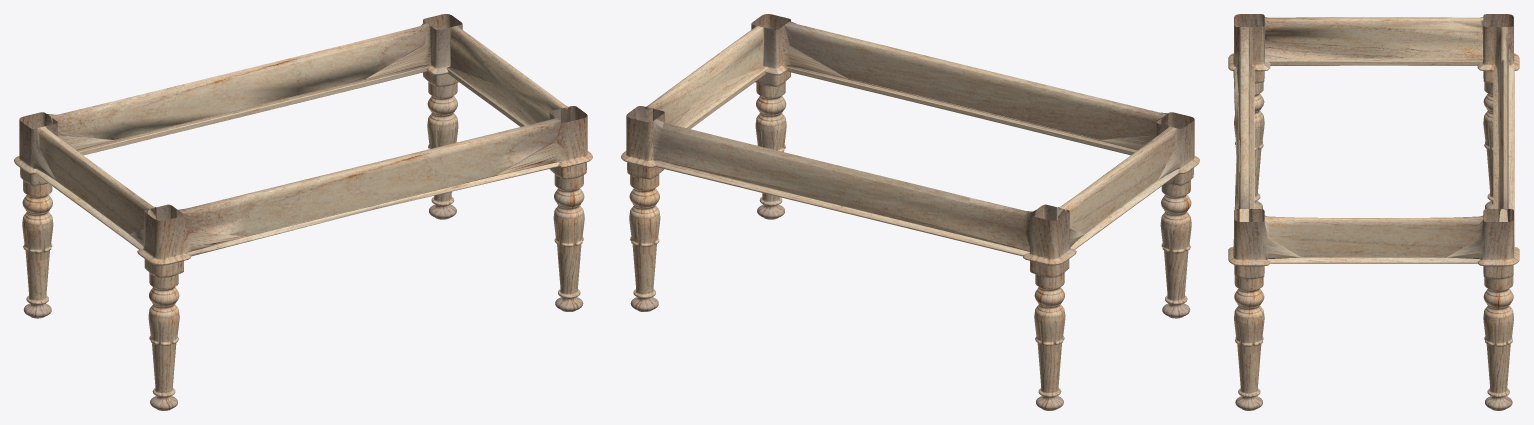
The model's file is Table_Bottom.fbx.
3 renders of one model, left to right at view 1: azimuth 30°, elevation 25°; view 2: azimuth 150°, elevation 25°; view 3: azimuth 270°, elevation 25°, orthographic.
Parts seen in each view (by area): view 1: Legs and Rails; view 2: Legs and Rails; view 3: Legs and Rails.
Boxes of the visible parts, x1,y1,x2,y2 form: Legs and Rails: [14, 14, 592, 410]; Legs and Rails: [621, 14, 1199, 410]; Legs and Rails: [1228, 14, 1519, 410].
Size of the model in its own units: 1076 by 452 by 622.
